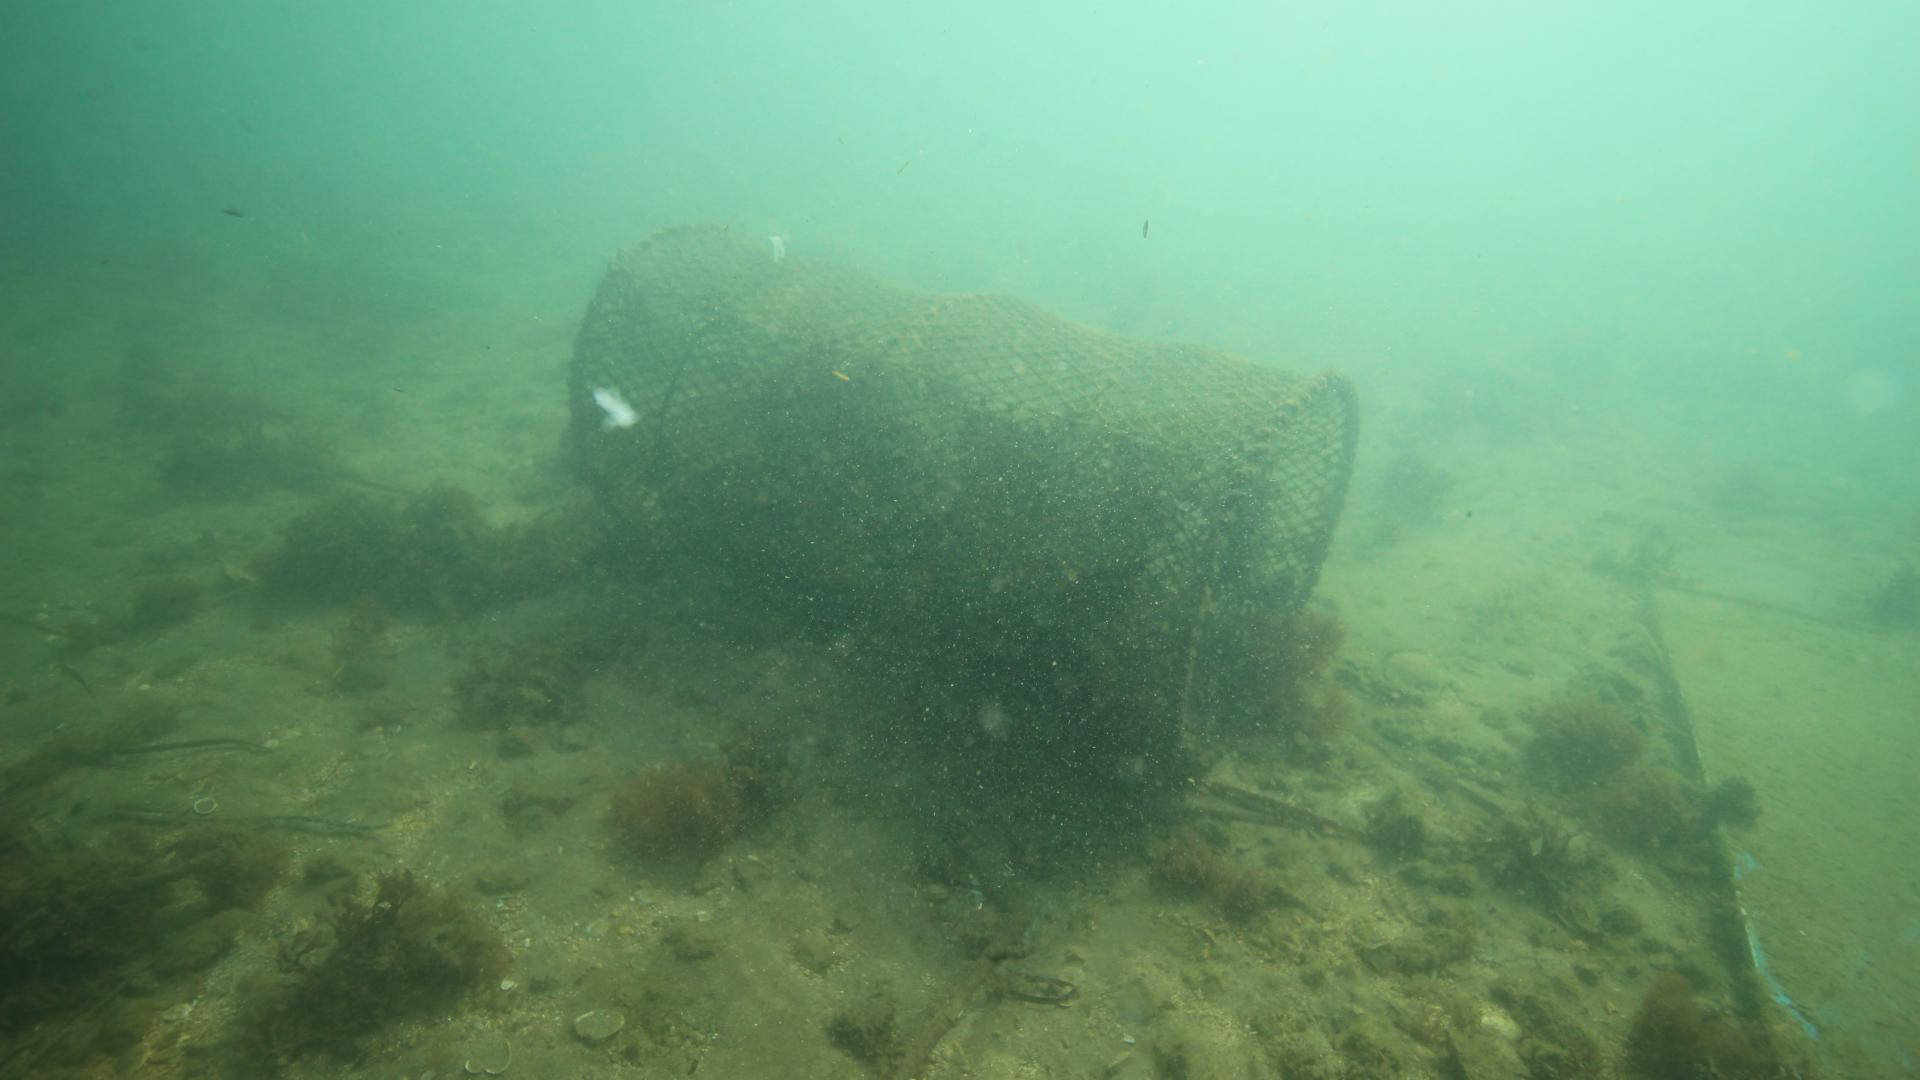spring fish trap: (567, 218, 1362, 760)
